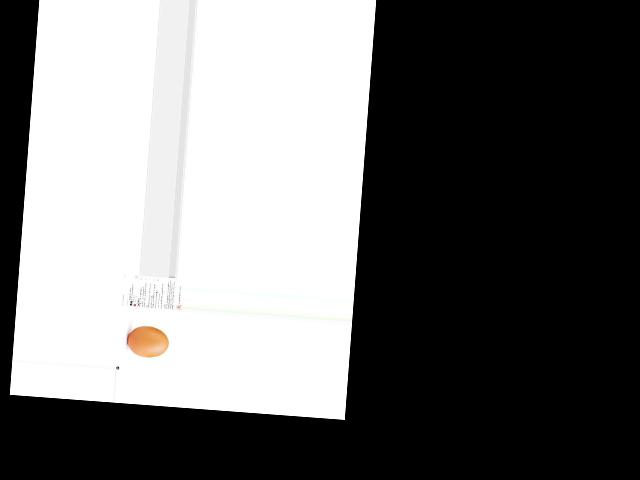egg: (126, 324, 169, 358)
